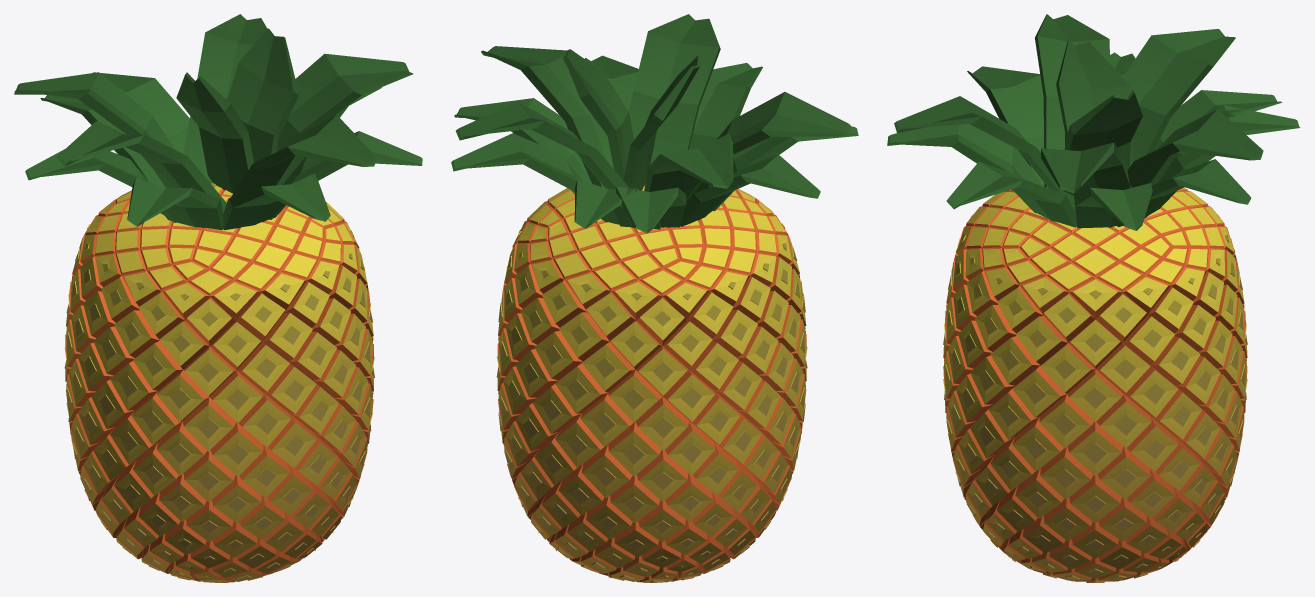
Rendered from Pineapple.glb.
3 views of the same model, side by side, from view 1: azimuth 30°, elevation 25°; view 2: azimuth 150°, elevation 25°; view 3: azimuth 270°, elevation 25° (orthographic).
Parts seen in each view (by area): view 1: Pineapple; view 2: Pineapple; view 3: Pineapple.
Boxes of the visible parts, x1,y1,x2,y2 form: Pineapple: (14, 14, 422, 582); Pineapple: (451, 14, 858, 582); Pineapple: (887, 14, 1300, 582).
Bounding box in the file's own units: 0.2226 × 0.3026 × 0.2223.
1 material, 1 textured.
